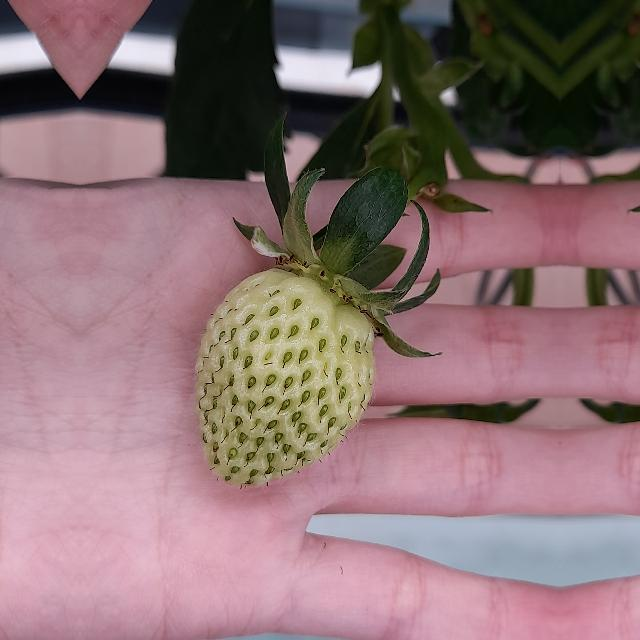Health_25: (196, 268, 377, 487)
